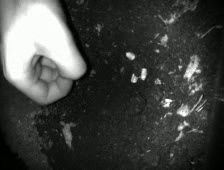corn: (138, 65, 149, 82), (122, 50, 138, 61), (128, 70, 139, 85)
